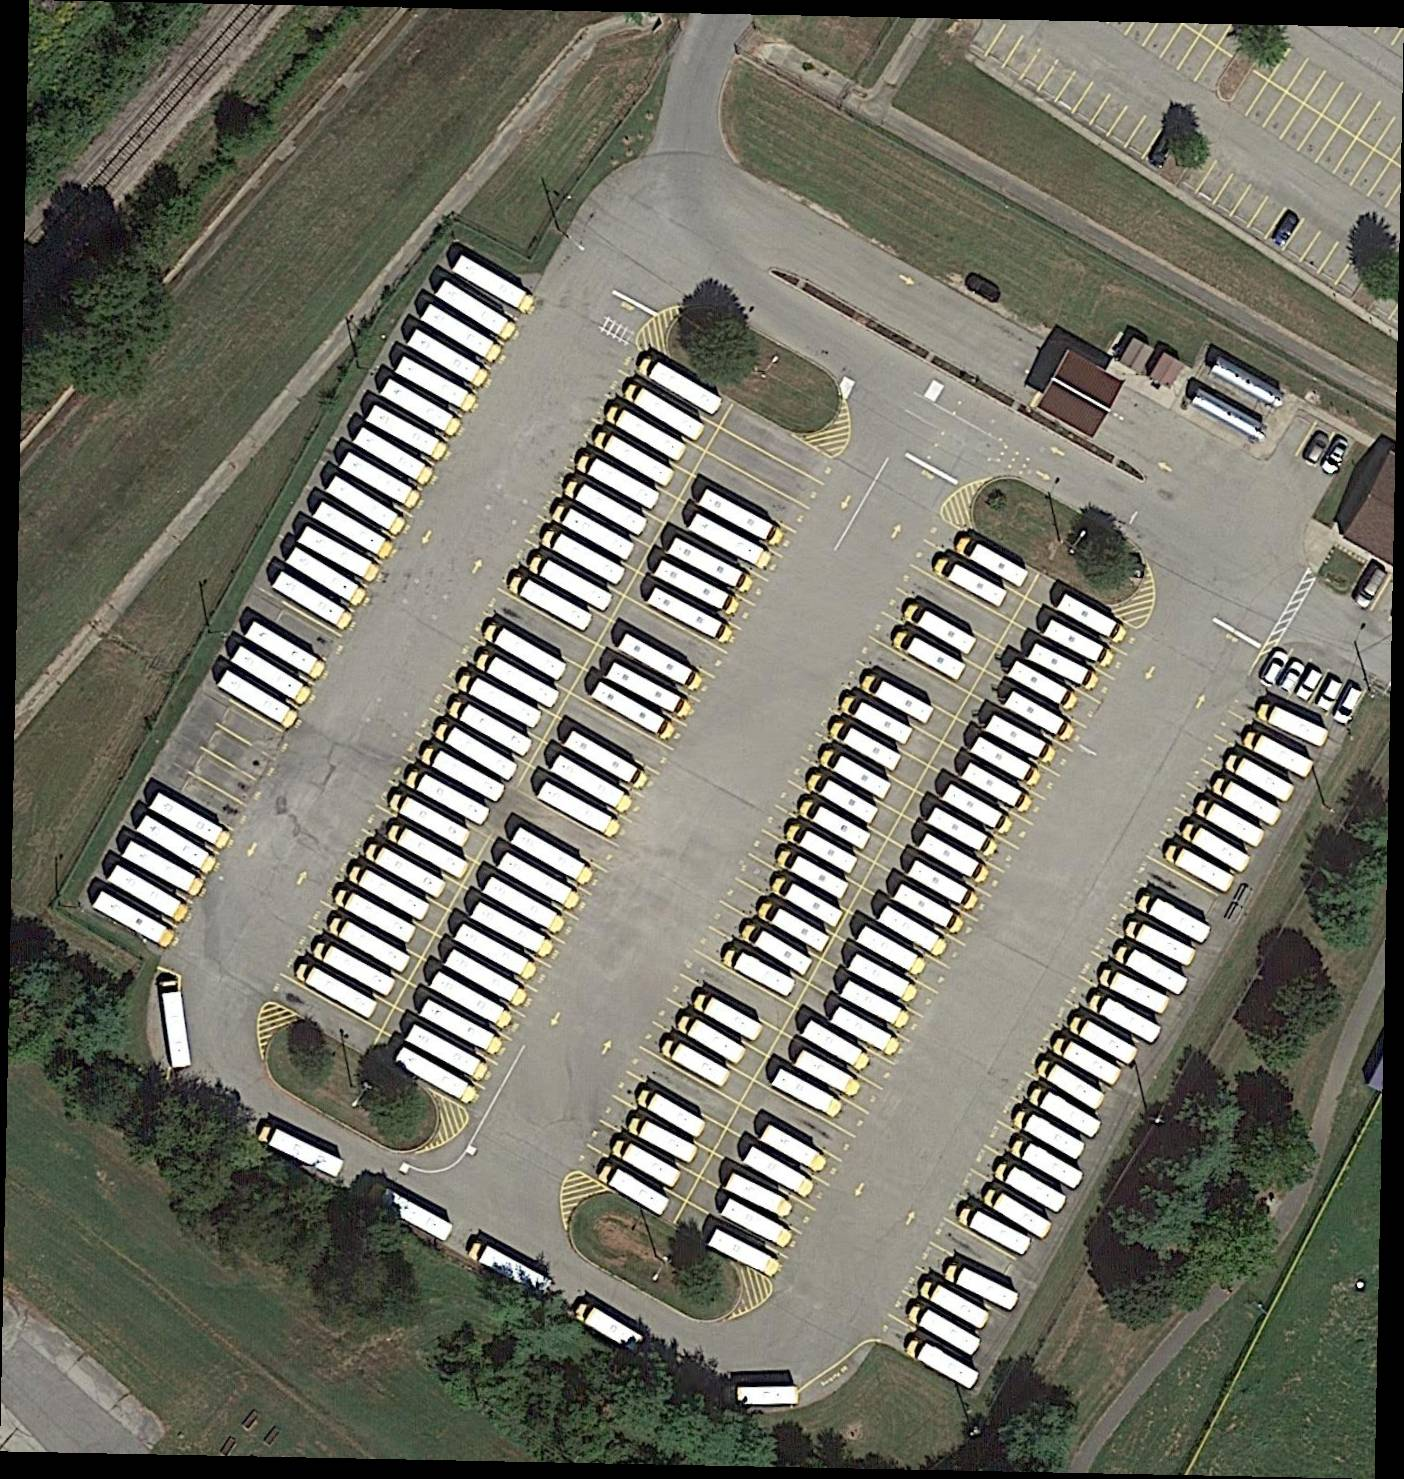large vehicle: (453, 253, 544, 319), (632, 354, 726, 417), (106, 863, 197, 928), (323, 913, 414, 976), (497, 850, 585, 916), (534, 778, 625, 840), (438, 280, 523, 346), (653, 555, 743, 617), (404, 1020, 494, 1082), (536, 526, 629, 586), (511, 823, 596, 888), (274, 571, 362, 635), (563, 728, 651, 792), (647, 586, 735, 648), (482, 875, 570, 937), (616, 632, 706, 693), (606, 660, 695, 720), (216, 670, 302, 734), (698, 489, 789, 549), (687, 513, 779, 573), (402, 768, 494, 827), (476, 620, 567, 679), (296, 524, 383, 586), (406, 329, 494, 391), (620, 381, 707, 443), (549, 753, 636, 815), (442, 950, 530, 1011), (422, 302, 507, 365), (368, 1183, 458, 1243), (231, 646, 317, 708), (434, 720, 521, 781), (429, 971, 516, 1032), (245, 621, 330, 683), (290, 960, 380, 1019), (665, 536, 755, 594), (561, 479, 651, 537), (286, 548, 372, 608), (592, 679, 678, 740), (470, 898, 556, 959), (366, 402, 453, 462), (466, 1239, 553, 1298), (260, 1121, 347, 1181), (591, 430, 678, 489), (604, 402, 691, 462), (313, 500, 396, 562), (446, 701, 534, 759), (418, 997, 507, 1055), (380, 379, 464, 439), (347, 863, 431, 924), (455, 922, 540, 983), (396, 1045, 480, 1106), (395, 356, 480, 416), (363, 840, 449, 900), (574, 454, 664, 511), (474, 652, 561, 710), (418, 747, 509, 802), (311, 941, 400, 997), (331, 888, 420, 945), (123, 840, 208, 898), (387, 823, 472, 881), (455, 673, 545, 728), (327, 476, 408, 537), (340, 453, 422, 512), (139, 815, 220, 875), (352, 427, 435, 486), (528, 555, 615, 611), (509, 577, 595, 632), (1110, 939, 1192, 997), (94, 892, 175, 950), (389, 792, 472, 848), (552, 507, 639, 561), (1028, 1083, 1108, 1141), (150, 792, 231, 850), (780, 822, 863, 877), (1133, 888, 1214, 945), (889, 627, 970, 683), (1064, 1009, 1141, 1067), (929, 553, 1008, 610), (1085, 990, 1164, 1046), (904, 1337, 984, 1392), (772, 847, 852, 902), (950, 533, 1032, 587), (751, 898, 833, 953), (1008, 1135, 1086, 1191), (903, 602, 980, 658), (800, 1017, 874, 1077), (992, 1160, 1071, 1215), (804, 771, 883, 826), (825, 718, 904, 773), (596, 1162, 674, 1218), (738, 922, 815, 978), (914, 1277, 994, 1331), (769, 872, 845, 929), (719, 947, 800, 1000), (1011, 1108, 1089, 1162), (907, 1304, 984, 1358), (815, 747, 893, 801), (839, 693, 917, 747), (955, 1205, 1035, 1257), (856, 672, 936, 724), (1178, 819, 1254, 875), (691, 988, 767, 1044), (625, 1112, 702, 1166), (1225, 749, 1298, 805), (709, 1226, 782, 1281), (1050, 1032, 1124, 1087), (1193, 794, 1268, 848), (830, 1004, 905, 1058), (980, 1185, 1056, 1239), (1240, 728, 1317, 781), (945, 1260, 1023, 1311), (1161, 840, 1235, 895), (573, 1300, 647, 1354), (1124, 916, 1199, 968), (1098, 966, 1174, 1017), (796, 801, 874, 851), (771, 1066, 845, 1119), (720, 1198, 796, 1249), (942, 782, 1013, 836), (970, 735, 1042, 788), (841, 979, 914, 1030), (1036, 1059, 1110, 1111), (926, 807, 1002, 858), (963, 760, 1035, 813), (1210, 776, 1283, 827), (918, 833, 991, 884), (636, 1087, 709, 1139), (859, 924, 928, 978), (1056, 592, 1130, 643), (983, 715, 1058, 764), (1005, 691, 1077, 743), (1008, 660, 1081, 710), (677, 1015, 750, 1065), (610, 1141, 684, 1190), (660, 1040, 734, 1088), (893, 883, 965, 933), (724, 1169, 796, 1219), (1044, 620, 1116, 669), (1028, 643, 1101, 691), (797, 1046, 866, 1098), (746, 1148, 815, 1198), (848, 955, 921, 1003), (879, 905, 947, 955), (1258, 705, 1331, 749), (910, 860, 978, 909), (761, 1125, 827, 1173), (160, 979, 194, 1067), (726, 1385, 801, 1409)
small vehicle: (1268, 207, 1306, 249), (1355, 566, 1388, 611), (1335, 683, 1366, 730), (1321, 435, 1353, 478), (1258, 648, 1291, 687), (1302, 429, 1331, 468), (1279, 658, 1308, 695), (1316, 679, 1345, 716), (1298, 668, 1325, 705)
